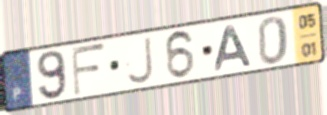0: (255, 14, 290, 67)
6: (163, 28, 199, 84)
9: (36, 49, 69, 102)
A: (213, 23, 255, 73)
F: (69, 41, 109, 98)
J: (125, 35, 156, 87)
